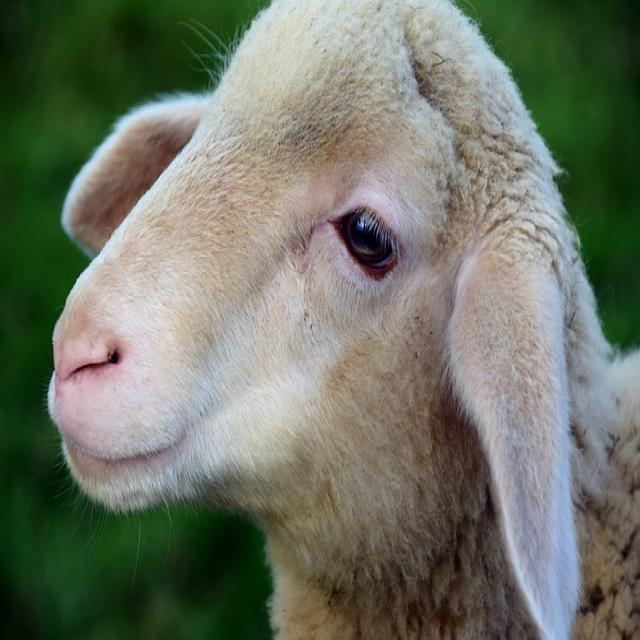sheep: (45, 0, 638, 638)
